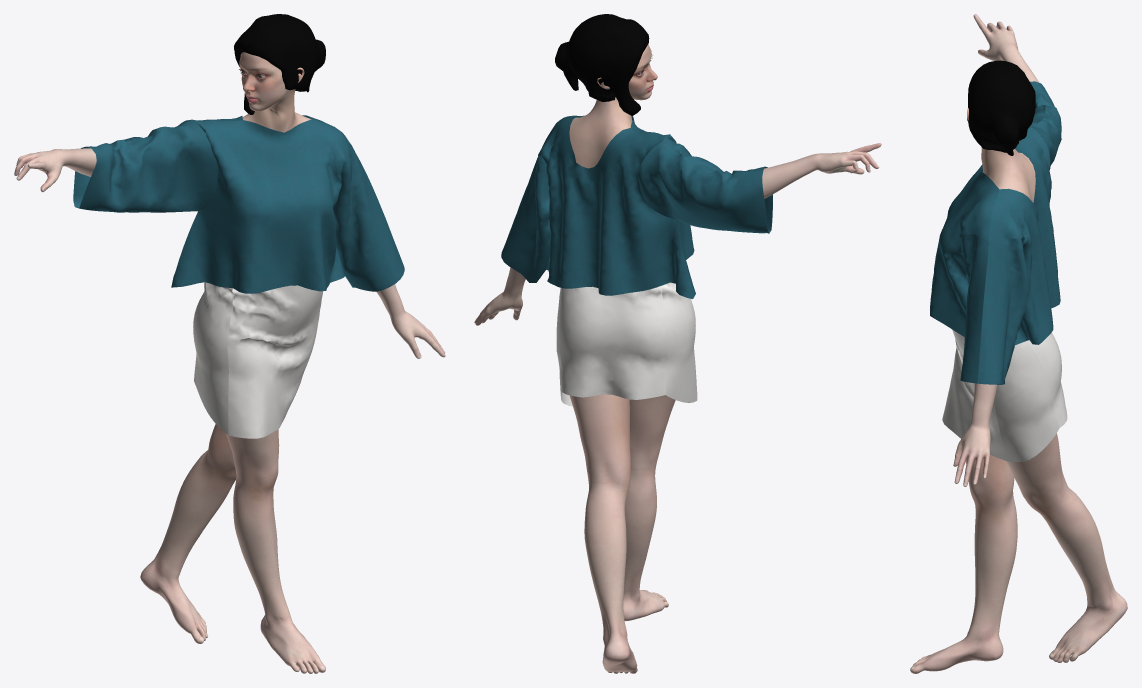
Rendered from Custom_View_2__Dynamic.obj.
The picture shows the model from 3 angles, left to right: view 1: azimuth 30°, elevation 25°; view 2: azimuth 150°, elevation 25°; view 3: azimuth 270°, elevation 25°; orthographic projection. The views are drawn at different scales.
Bounding box in the file's own units: 1226 × 1775 × 569.
